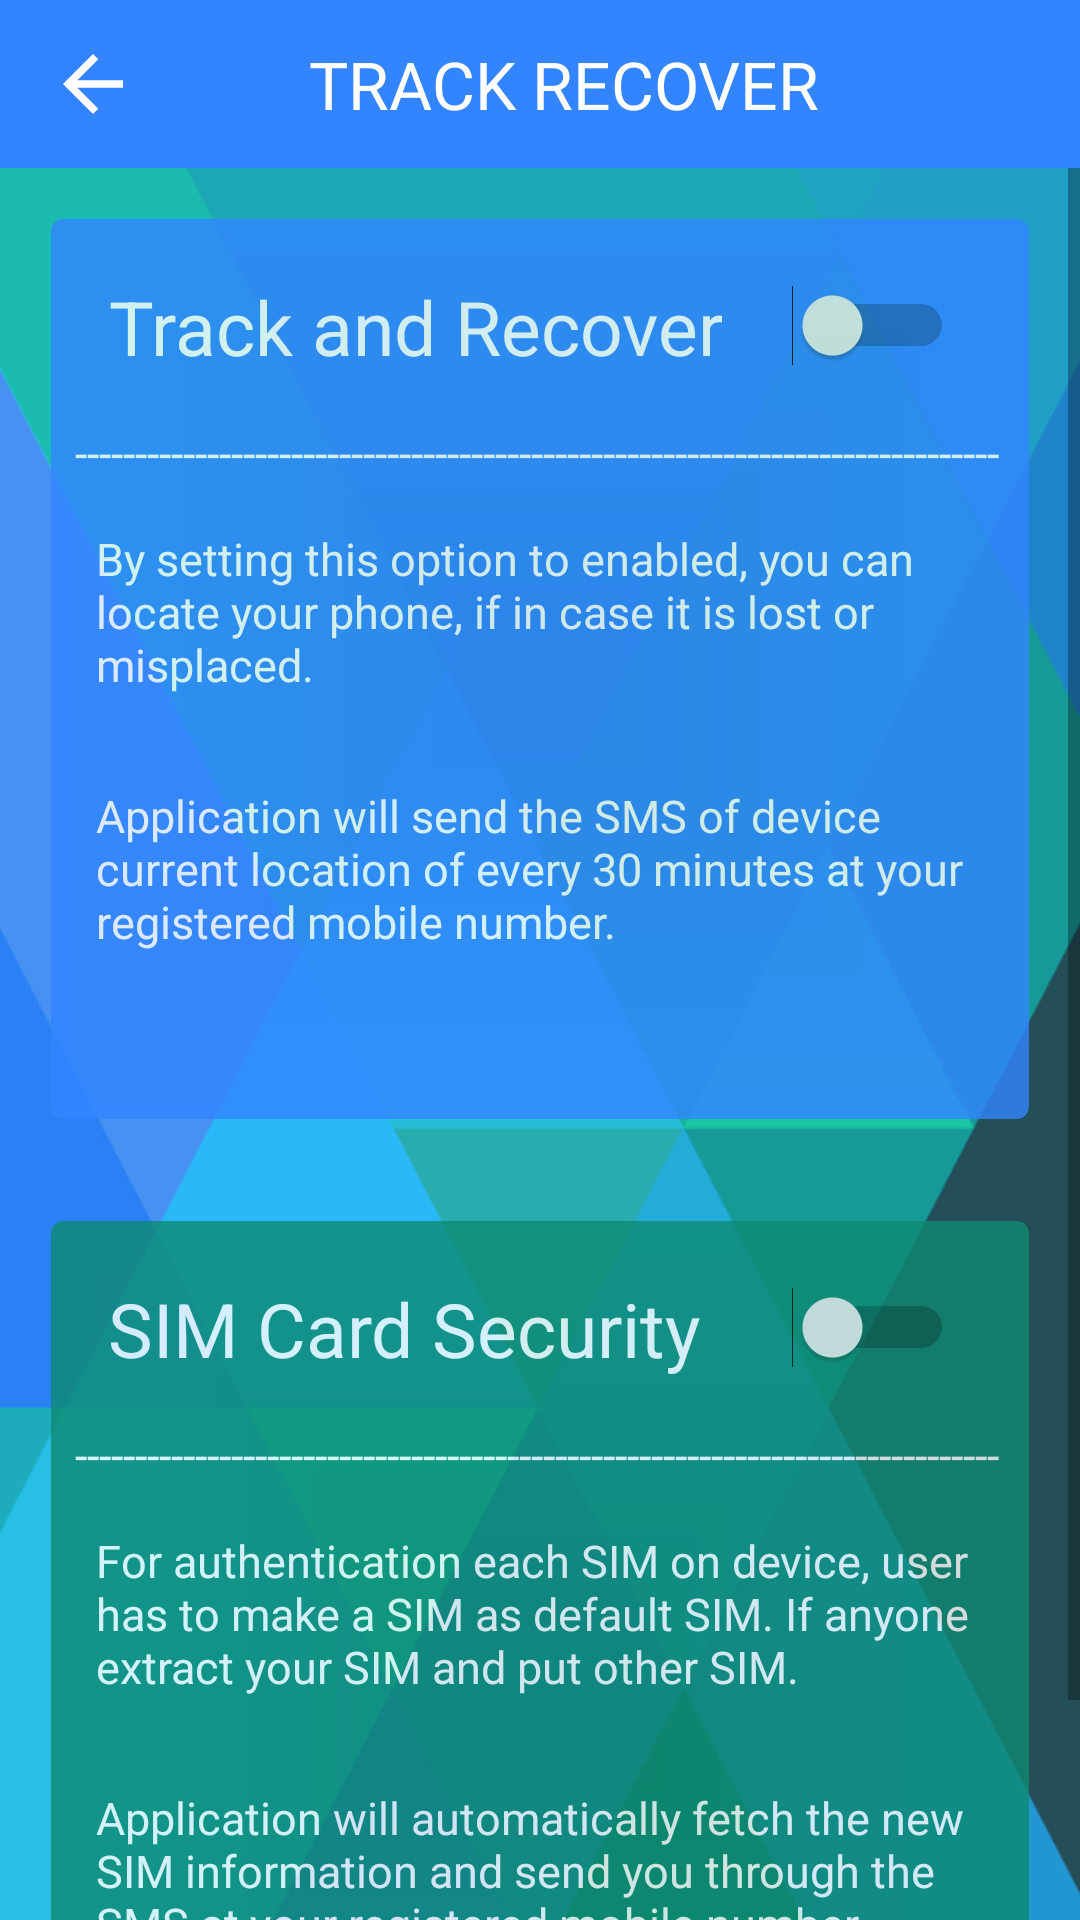

Named icons in this screenshot (1080×1920) and their centers, [x,y]:
arrow back: [93,84]
